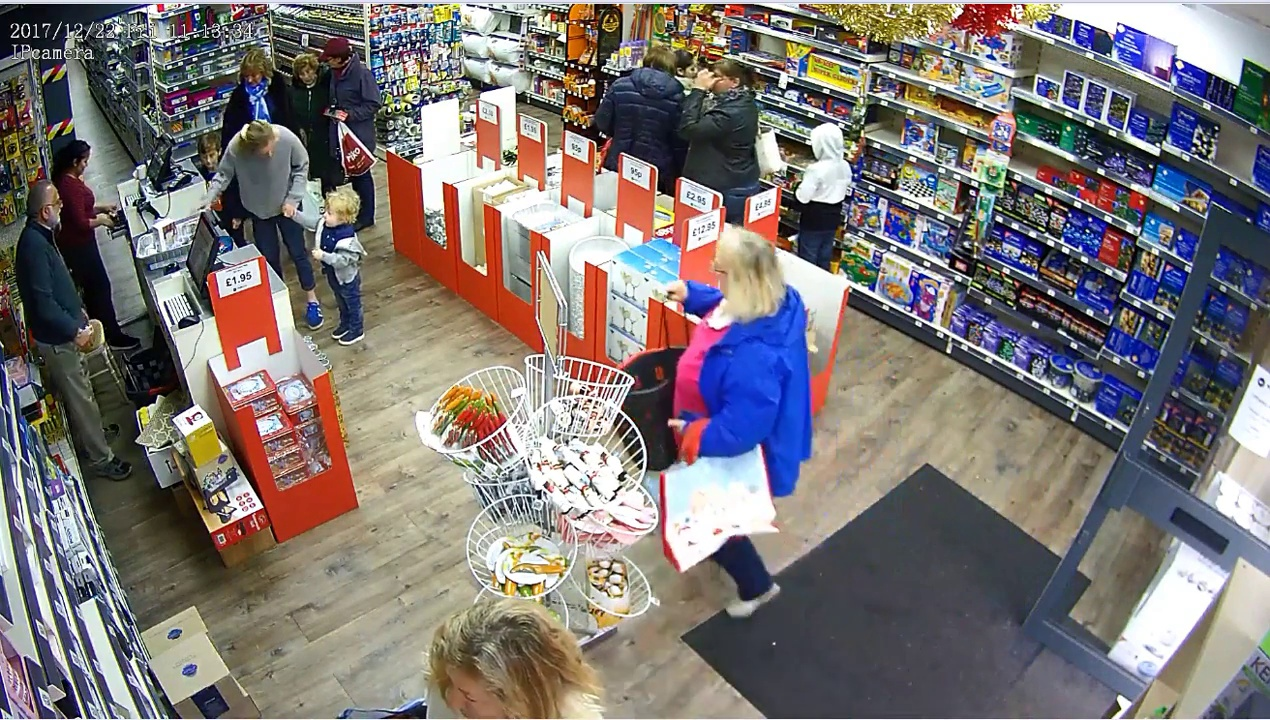face: (38, 191, 70, 225), (321, 204, 347, 229), (297, 60, 316, 83)
